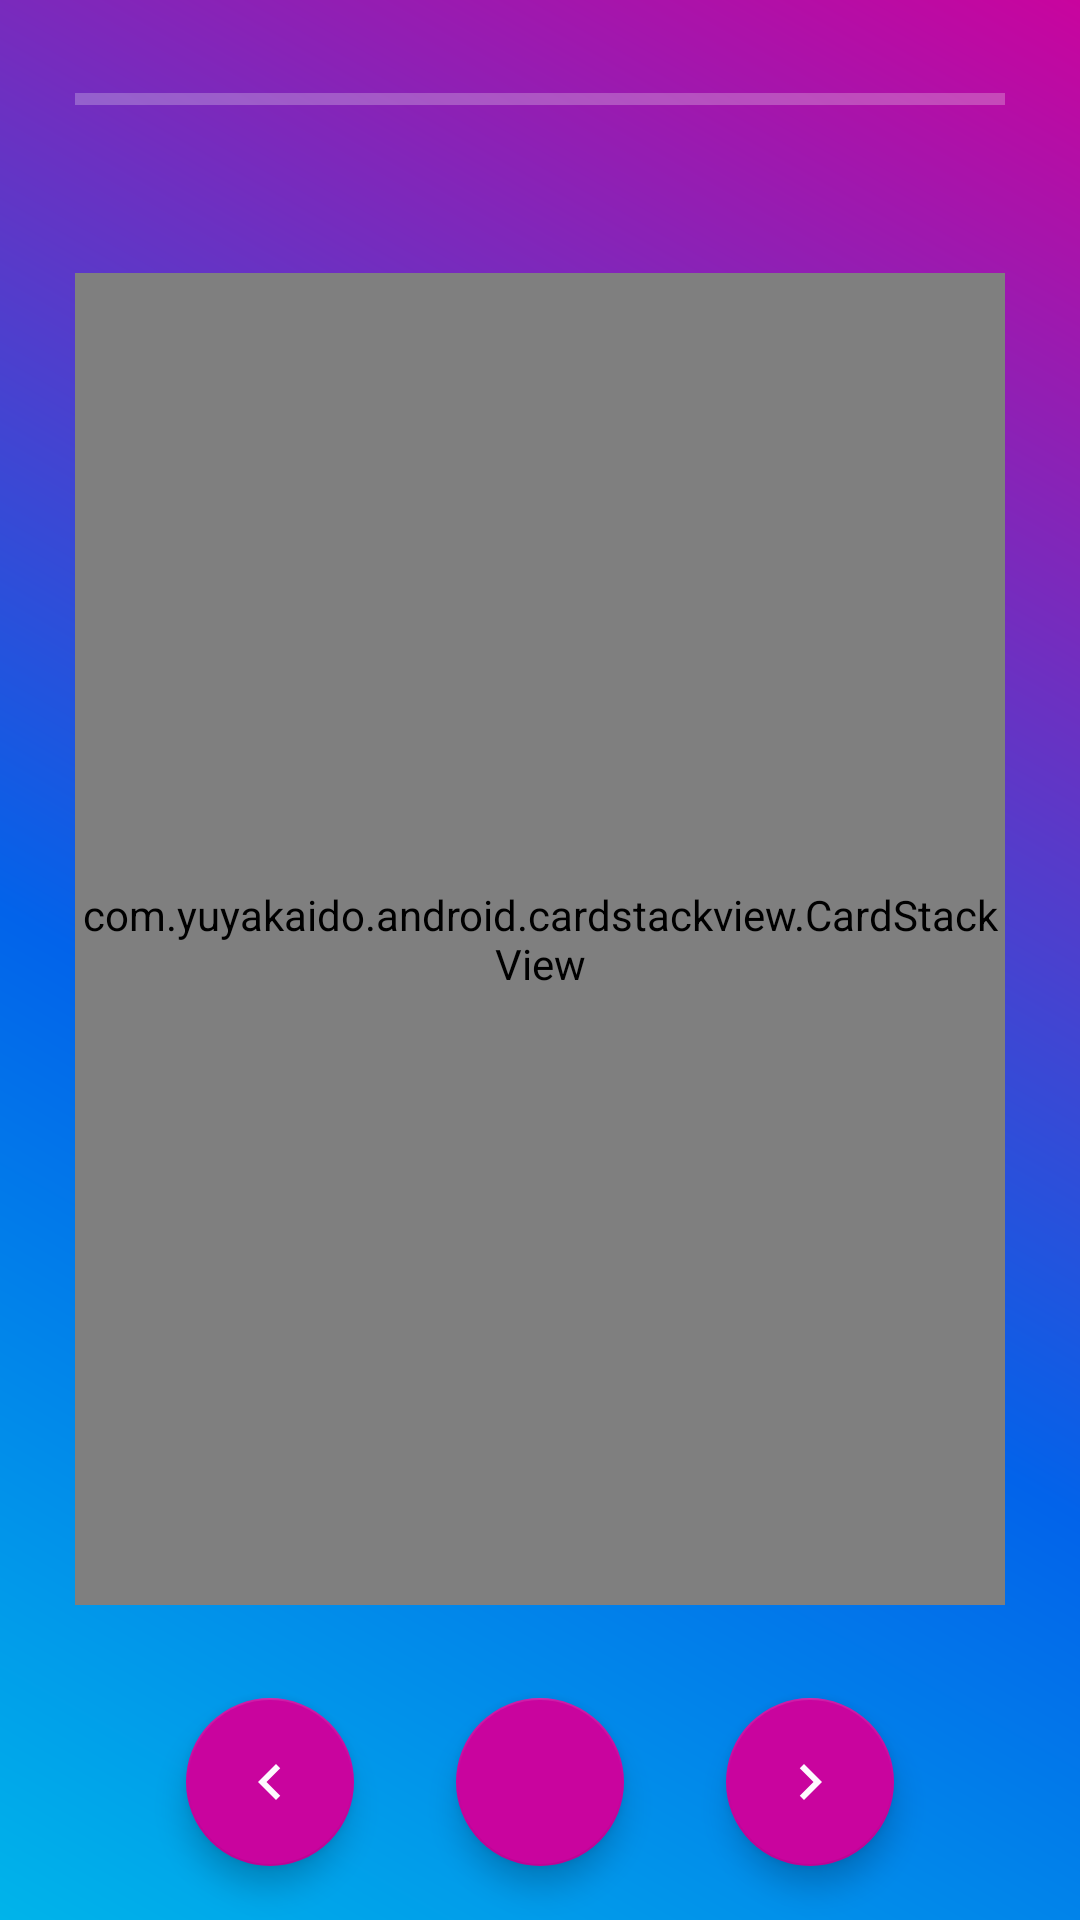

Where icons sit on this 1080 x 1920 app screen, as (x1, y1, x2, y2):
navigate before: (186, 1698, 354, 1866)
navigate next: (726, 1698, 894, 1866)
